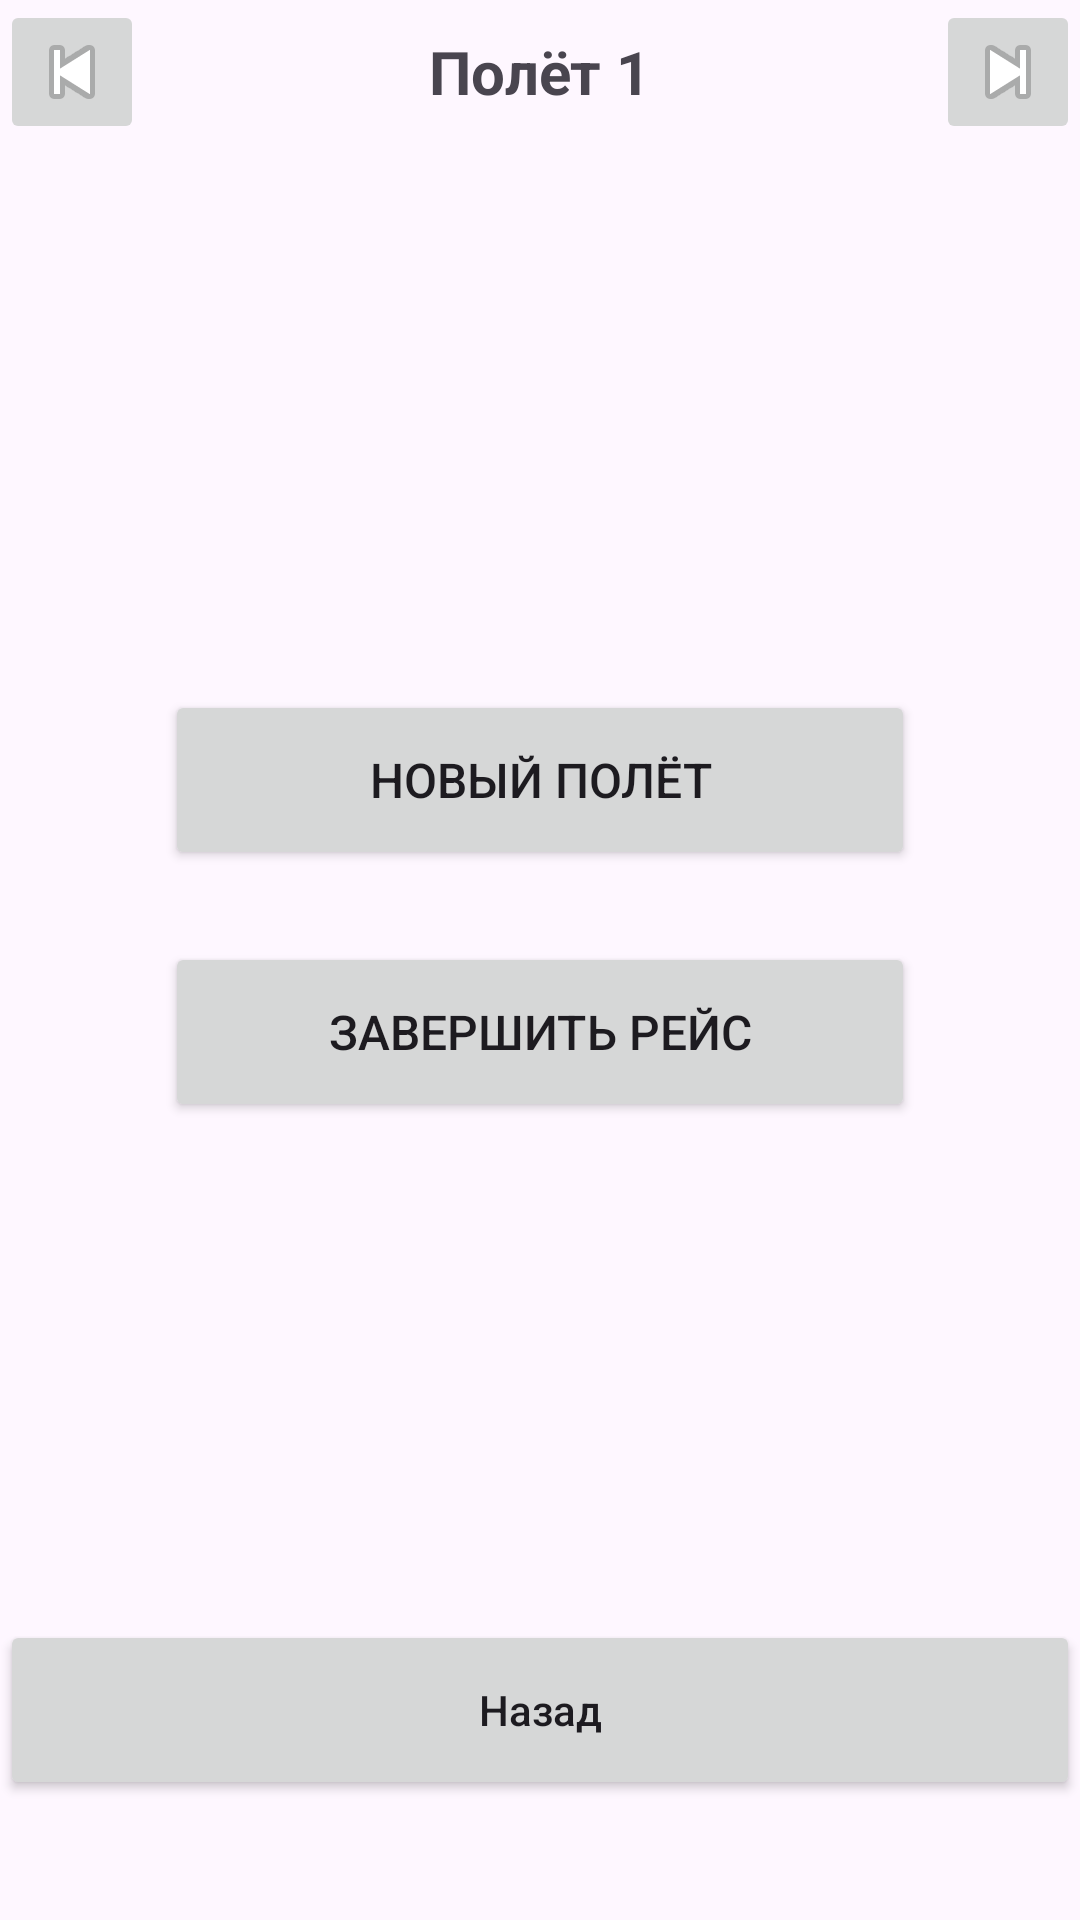

Named icons in this screenshot (1080×1920) and their bounding boxes, (x1, y1, x2, y2):
Вперёд: (948, 18, 1068, 126)
Назад: (12, 18, 132, 126)
